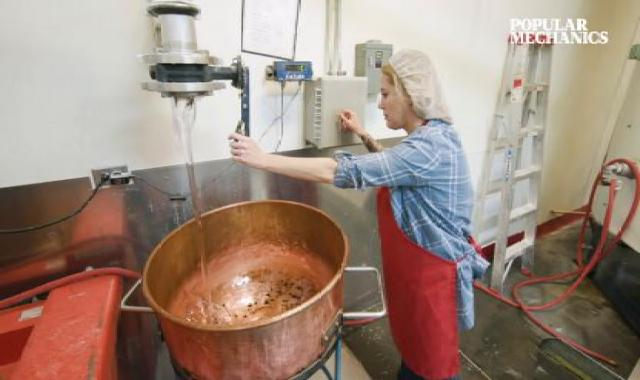hairnet: (376, 46, 459, 134)
